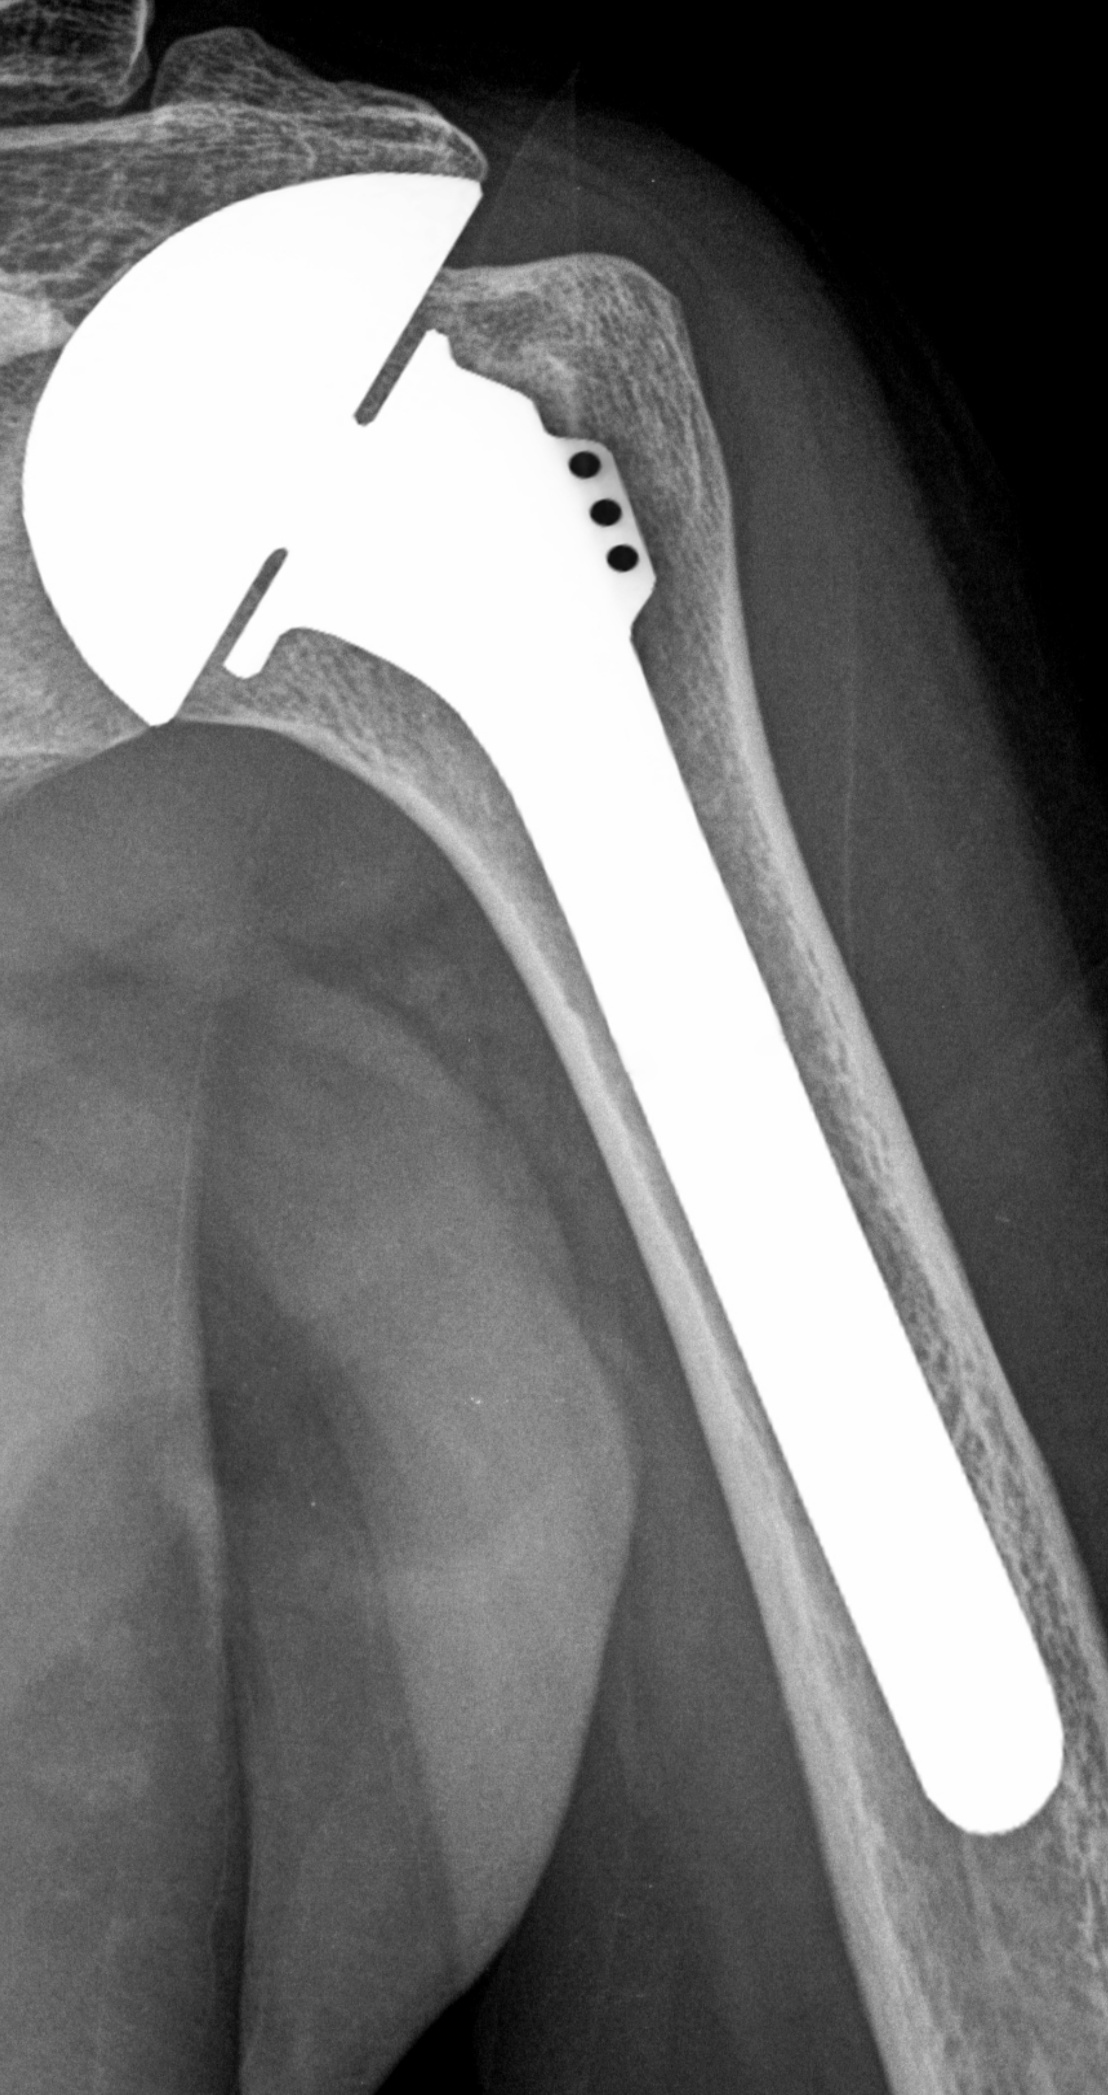Shoulder-Olympia-Wright: (3, 173, 1071, 1841)
